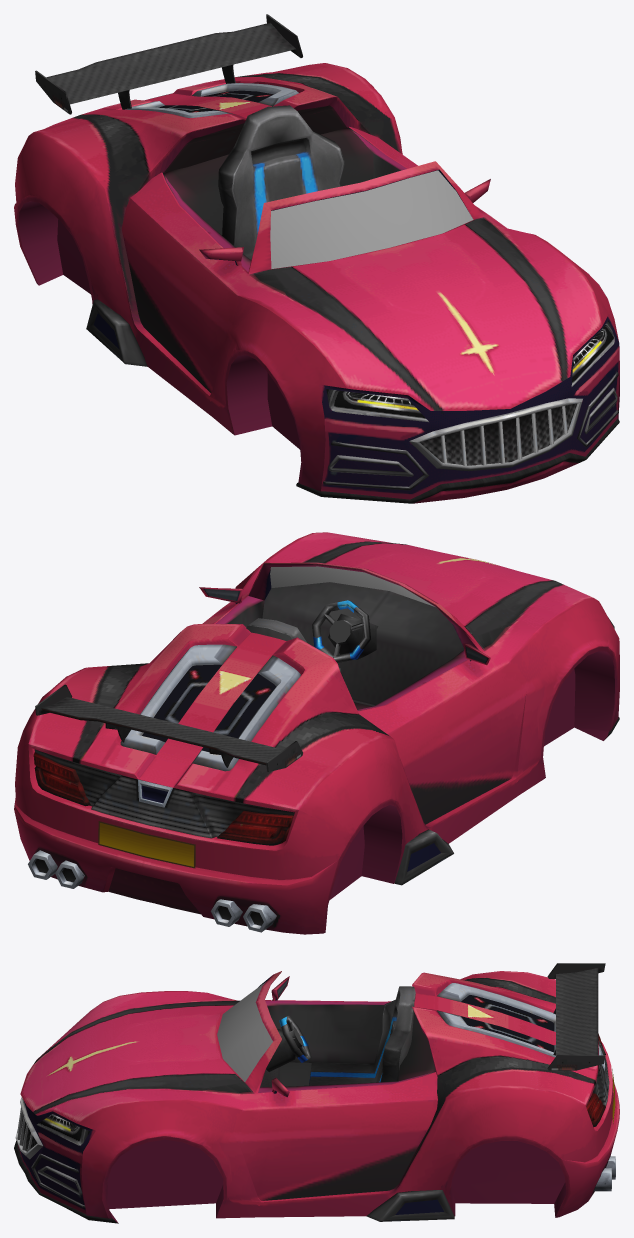
File: car_mod.FBX
3 views of the same model, one above another, from view 1: azimuth 30°, elevation 25°; view 2: azimuth 150°, elevation 25°; view 3: azimuth 270°, elevation 25° (orthographic). The views are drawn at different scales.
Visible parts, largest first — view 1: car_10_01, car_10_02, car_10_03; view 2: car_10_01, car_10_02, car_10_03; view 3: car_10_01, car_10_02, car_10_03.
Part boxes in pixels (bbox=[...]): car_10_01: bbox=[14, 63, 619, 503]; car_10_02: bbox=[35, 14, 614, 465]; car_10_03: bbox=[270, 170, 473, 268]; car_10_01: bbox=[14, 532, 619, 934]; car_10_02: bbox=[33, 582, 614, 885]; car_10_03: bbox=[270, 566, 434, 606]; car_10_01: bbox=[14, 971, 619, 1223]; car_10_02: bbox=[20, 963, 609, 1221]; car_10_03: bbox=[217, 982, 272, 1081].
Bounding box in the file's own units: 230 × 139 × 445.
Materials: 2 (1 with a texture image).
